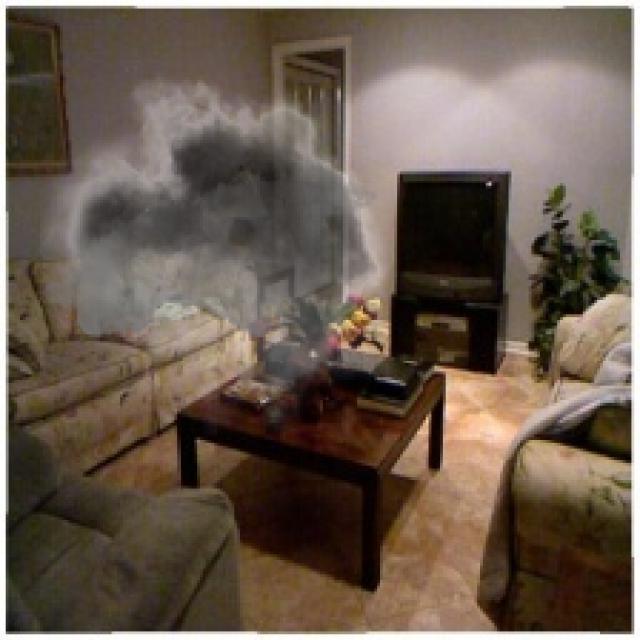smoke: (40, 60, 409, 437)
